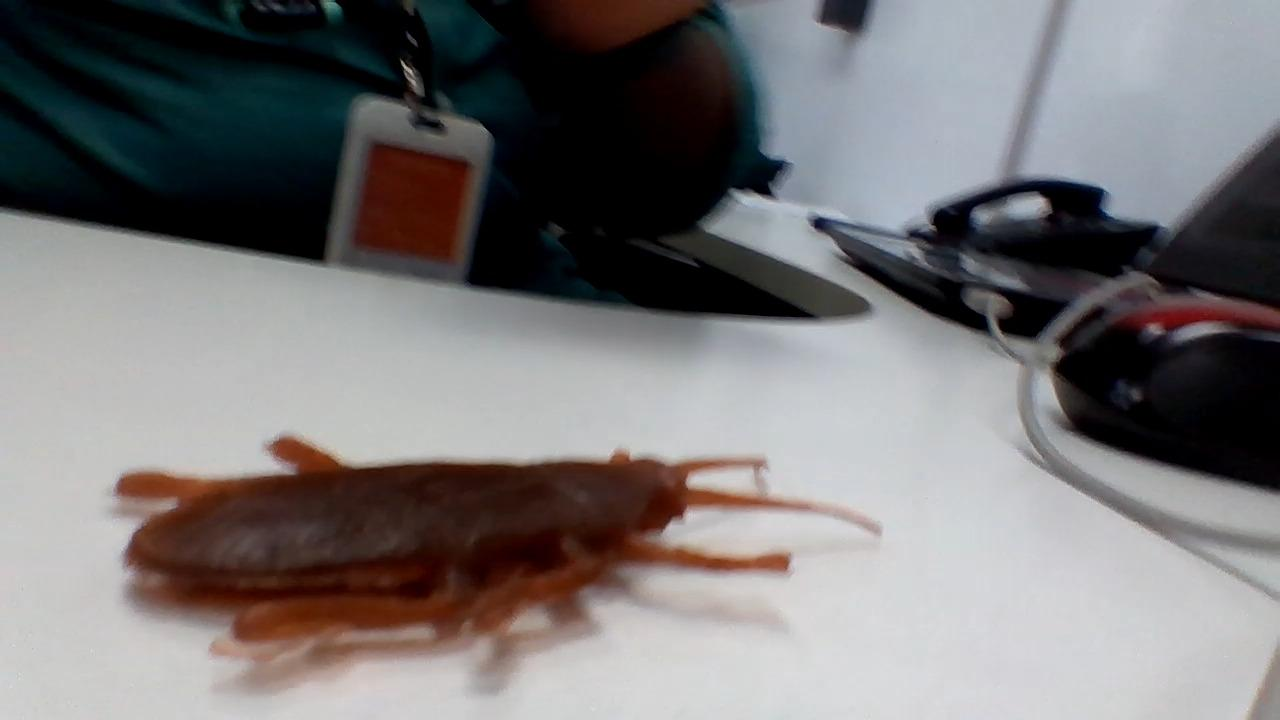cockroach: (99, 414, 866, 664)
